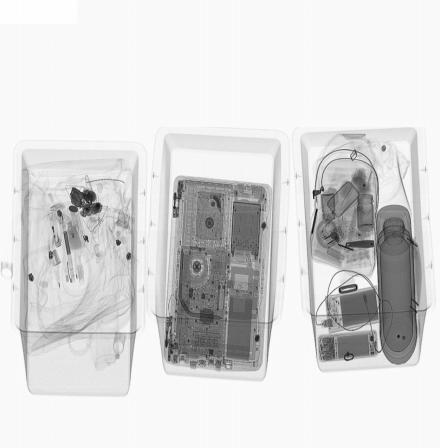Lighter: (47, 208, 63, 249)
